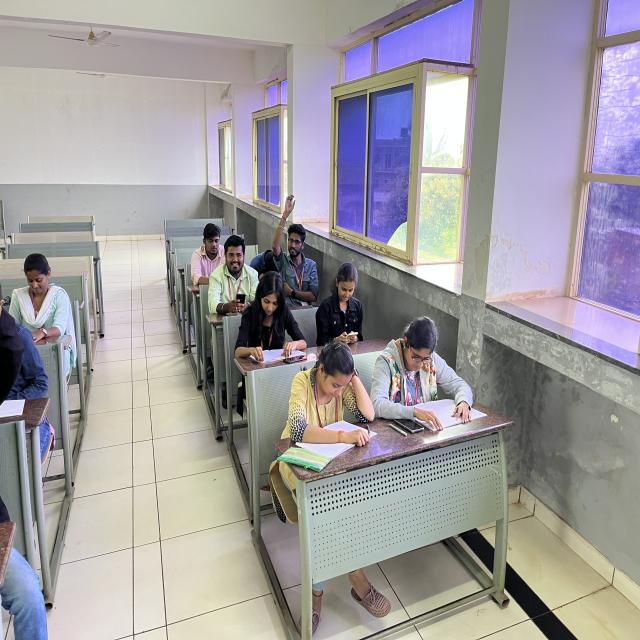Hand Rising: (252, 176, 336, 289)
Reading: (363, 306, 492, 414), (278, 331, 377, 460), (247, 268, 310, 357)
Using Phone: (310, 240, 372, 355), (205, 219, 268, 321), (179, 220, 229, 275)
